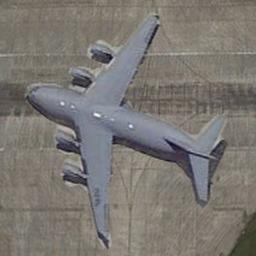Airplane: (23, 11, 228, 249)
